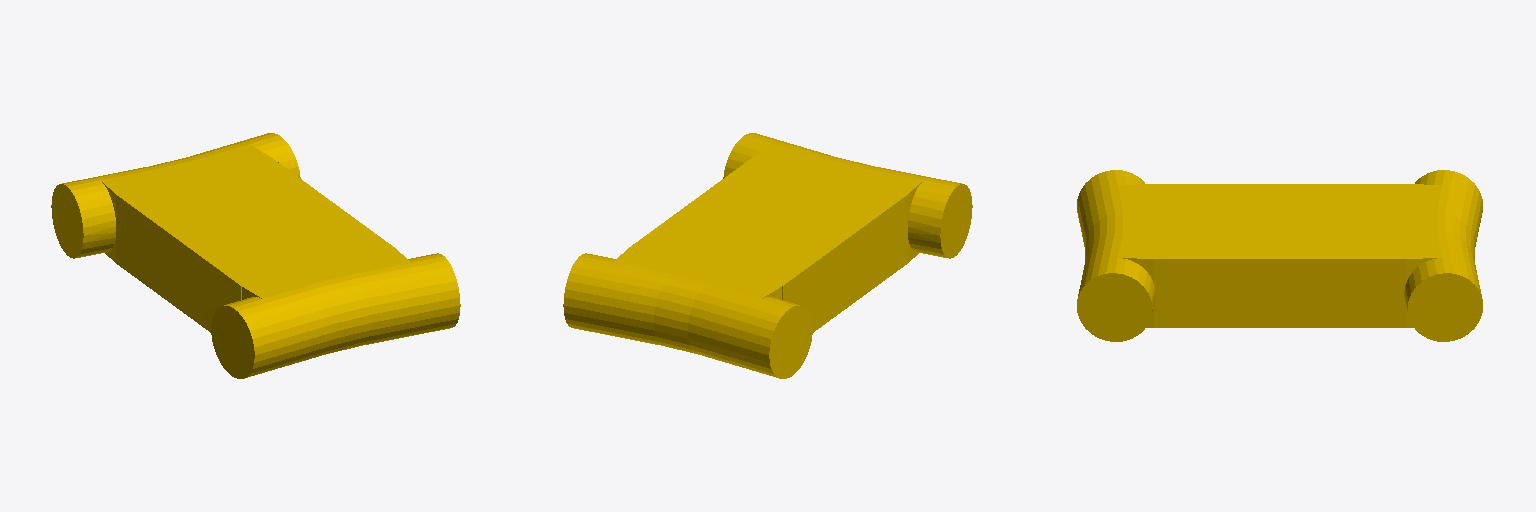
The model's file is soft_body_simplified_05_deg.obj.
3 views of the same model, side by side, from view 1: azimuth 30°, elevation 25°; view 2: azimuth 150°, elevation 25°; view 3: azimuth 270°, elevation 25° (orthographic).
Parts seen in each view (by area): view 1: Solid1; view 2: Solid1; view 3: Solid1.
Boxes of the visible parts, <box> form: Solid1: <box>51,133,460,378</box>; Solid1: <box>563,133,972,378</box>; Solid1: <box>1077,170,1482,341</box>.
Size of the model in its own units: 211 by 64 by 342.